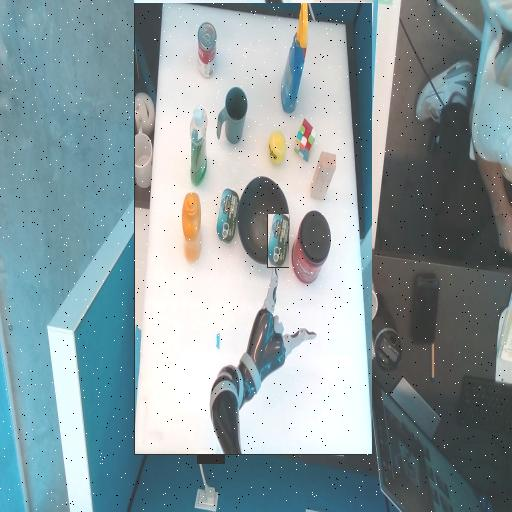bowl: (217, 210, 268, 262)
cleanser: (299, 303, 316, 319)
coffee_can: (176, 174, 214, 245)
jaco: (191, 75, 260, 196)
meat_can: (268, 214, 289, 267)
mug: (259, 313, 289, 369)
mustard_bottle: (305, 195, 324, 263)
rubik: (190, 305, 212, 327)
soup_can: (291, 379, 308, 434)
tennis_ball: (221, 294, 238, 324)
windex: (197, 394, 225, 416)
wooden_block: (171, 258, 195, 304)
workspace: (134, 3, 372, 454)
